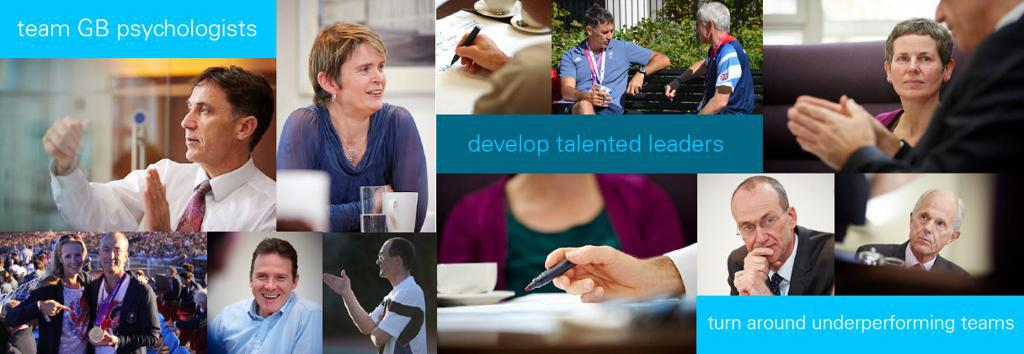face: (181, 88, 236, 162), (733, 197, 788, 263), (339, 47, 386, 110), (890, 41, 937, 98), (936, 4, 992, 50), (253, 257, 293, 312), (915, 204, 952, 254), (102, 242, 125, 272), (375, 247, 395, 278), (63, 246, 82, 274), (594, 23, 615, 47), (697, 19, 708, 44), (40, 254, 49, 265), (167, 270, 173, 279), (182, 277, 189, 284), (37, 260, 43, 267), (177, 242, 182, 249)
